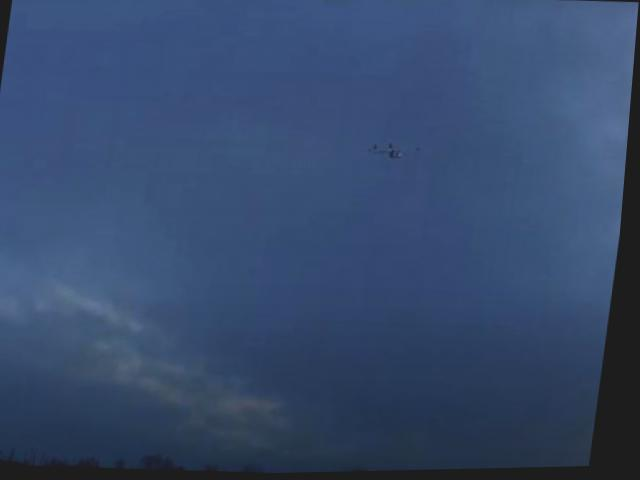iha: (368, 144, 420, 165)
